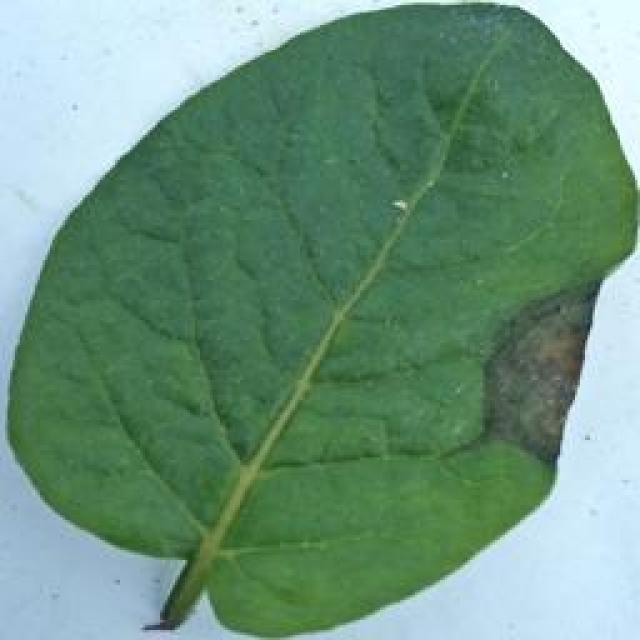Potato_Late_Blight: (8, 11, 622, 628)
